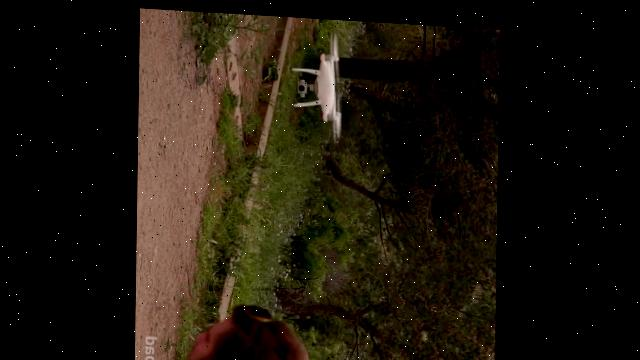drone: (291, 23, 346, 141)
